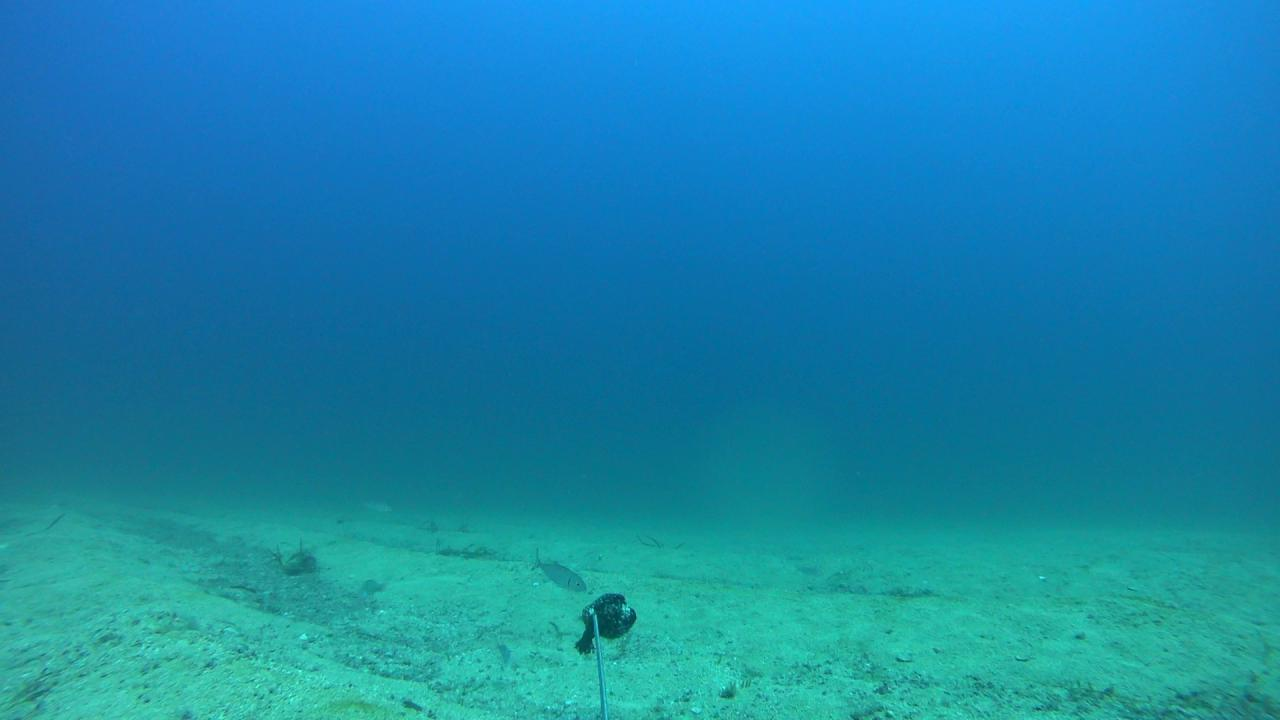pagellus: (531, 547, 587, 593)
